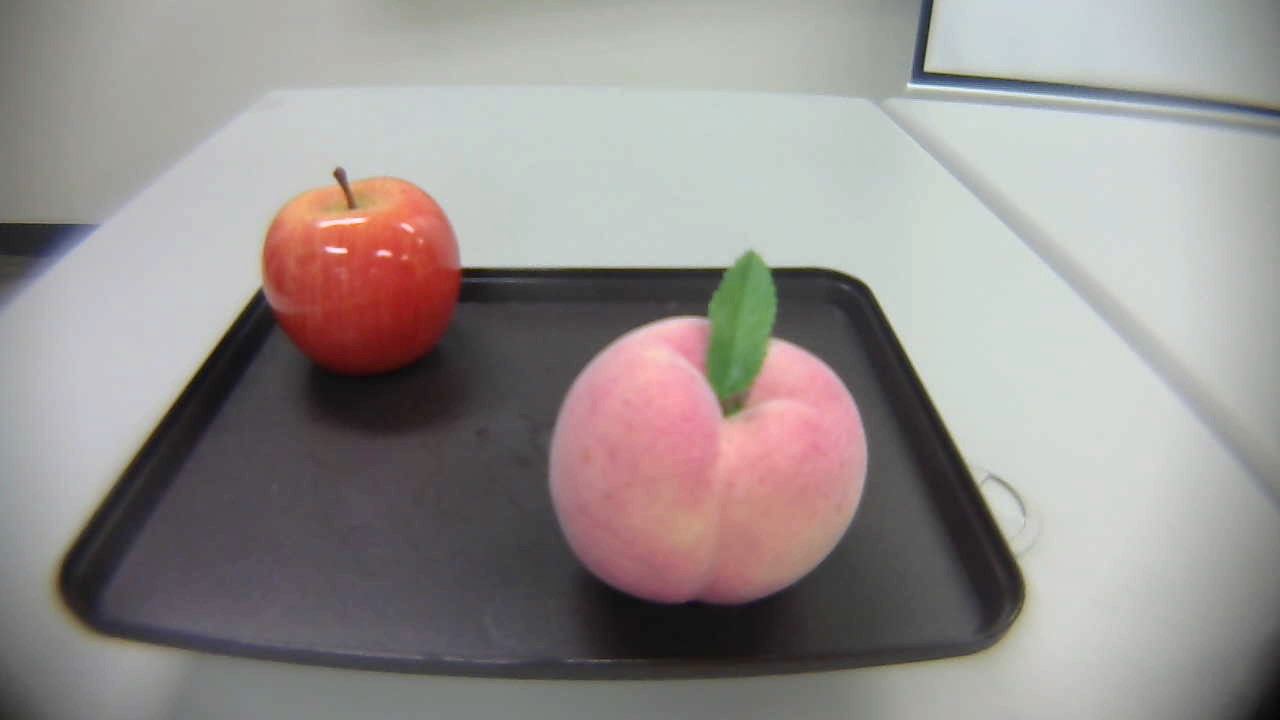peach: (531, 250, 876, 618)
red apple: (249, 171, 464, 379)
